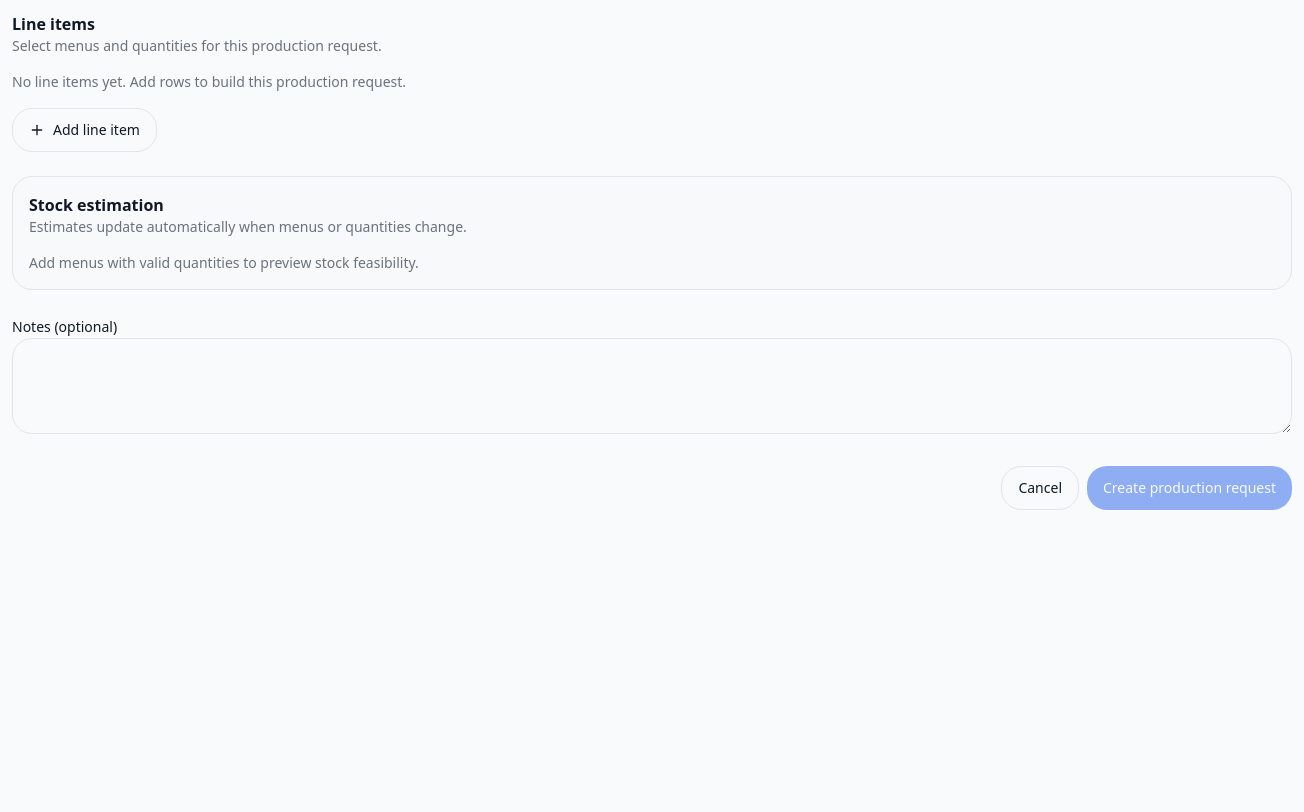
Scenario: ProductionRequestForm › renders menu picker and quantity inputs
This screenshot has width=1304, height=812.
Click the button "Add line item" at coordinates (84, 130), box [12,108,157,152]
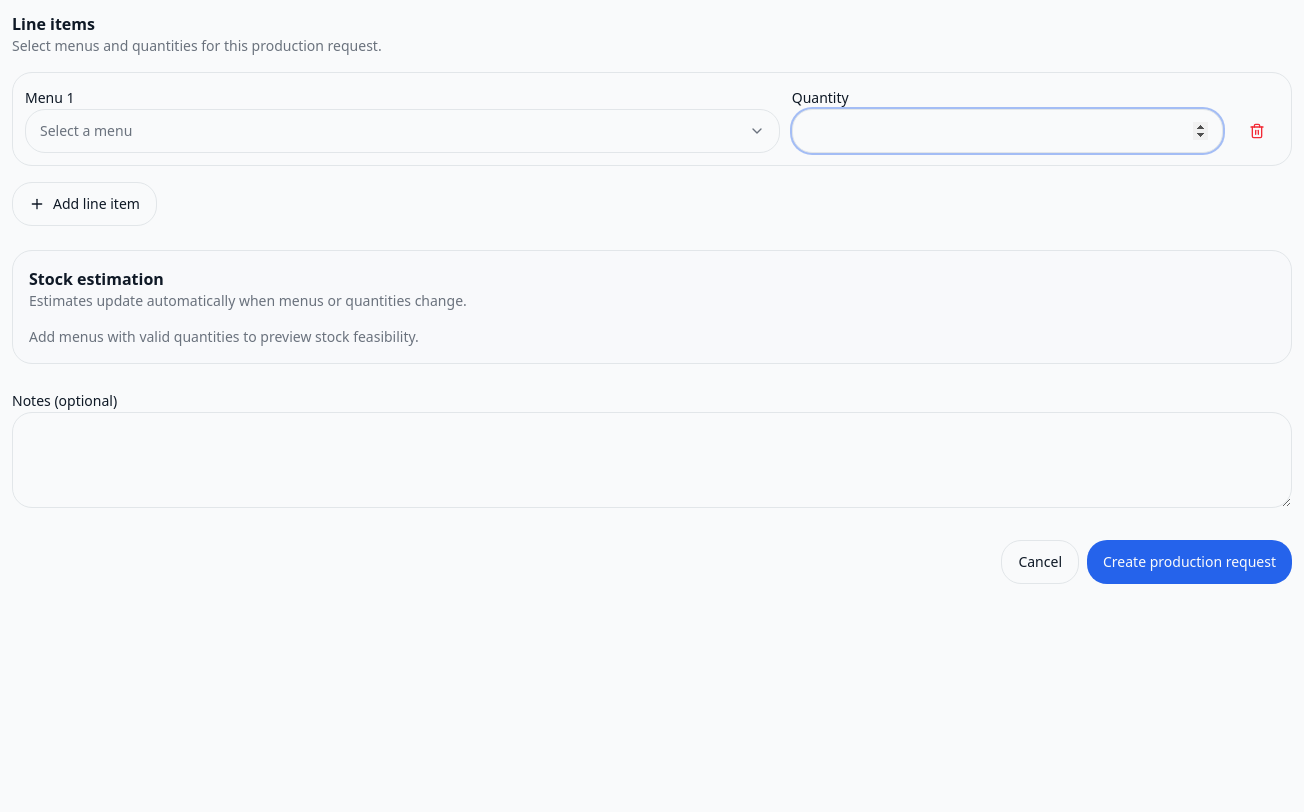
Expected: the text box labelled "Notes (optional)" is shown, [12,412,1292,508]
Expected: the button named "Menu 1" is shown, [25,109,780,153]
Expected: the number field labelled "Quantity" is shown, [792,109,1223,153]
